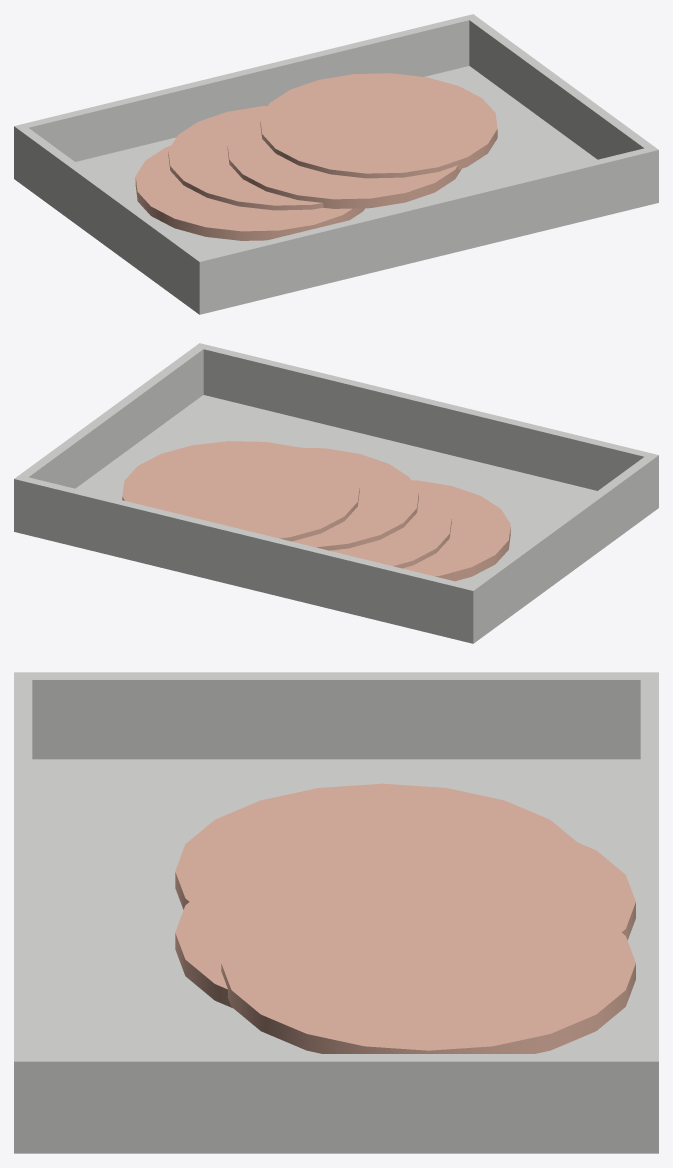
File: Turkey.fbx
3 views of the same model, one above another, from view 1: azimuth 30°, elevation 25°; view 2: azimuth 150°, elevation 25°; view 3: azimuth 270°, elevation 25° (orthographic). The views are drawn at different scales.
Visible parts, largest first — view 1: Turkey; view 2: Turkey; view 3: Turkey.
Boxes of the visible parts, box(x1,y1,x2,y2) form: Turkey: box(14, 14, 658, 314); Turkey: box(14, 343, 658, 643); Turkey: box(14, 672, 658, 1153).
Size of the model in its own units: 0.2 by 0.022 by 0.14.
